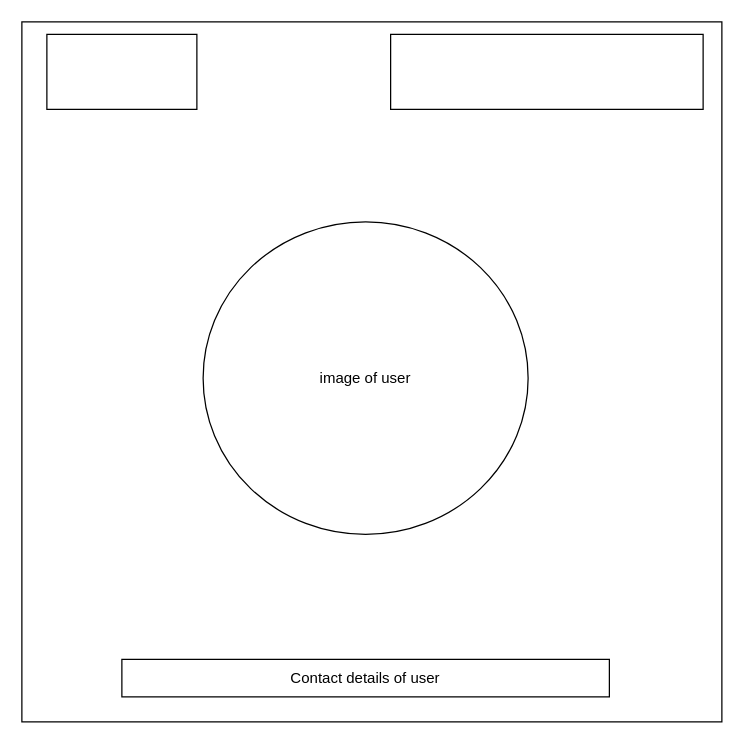
This 744x744 diagram has some shape labels left out. The box of each missing label's shape, as (x1, y1, x2, y2) in pixels:
Sub-web page links: (389, 33, 703, 109)
User name: (46, 33, 197, 109)
